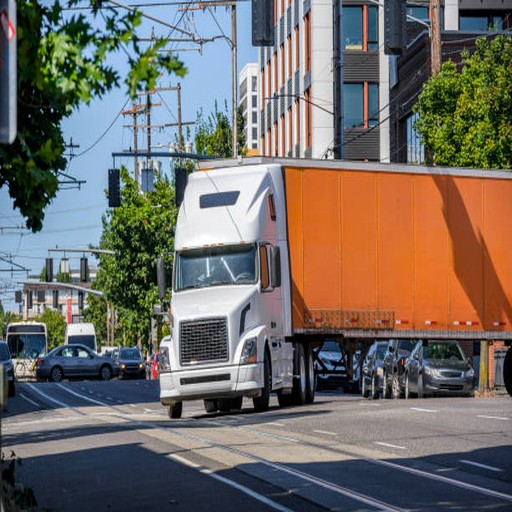car: (402, 336, 477, 401), (32, 343, 123, 385)
truck: (153, 152, 512, 419)
